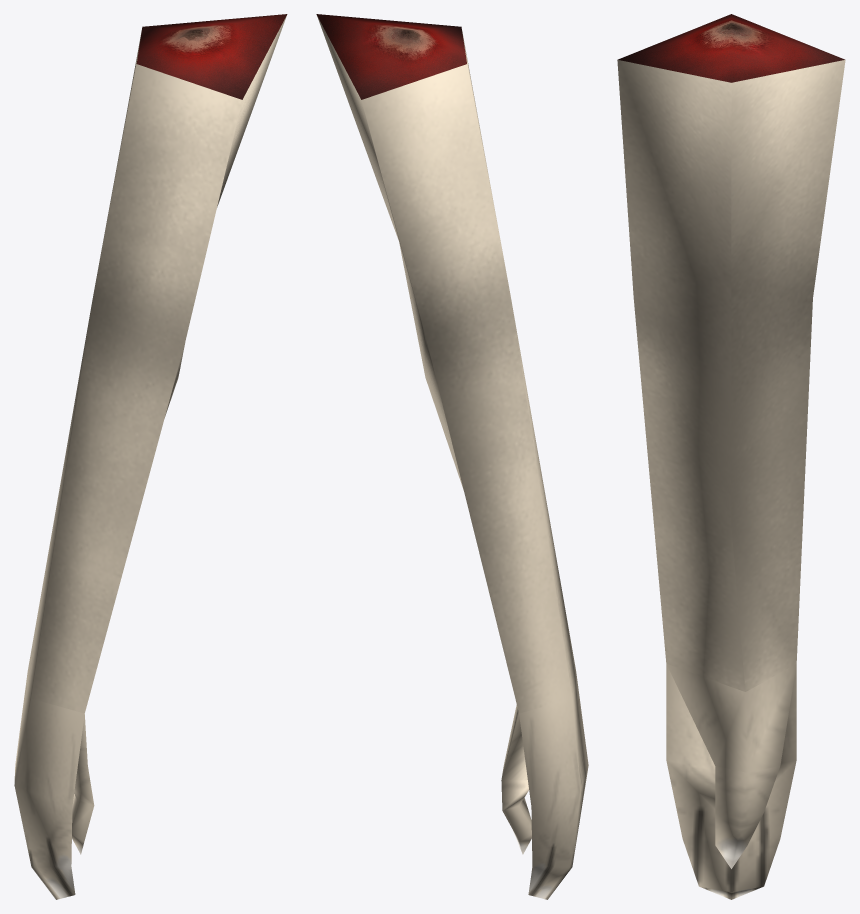
File: HumanoidLeftArm.fbx
3 renders of one model, left to right at view 1: azimuth 30°, elevation 25°; view 2: azimuth 150°, elevation 25°; view 3: azimuth 270°, elevation 25°, orthographic. The views are drawn at different scales.
Visible parts, largest first — view 1: LeftArm; view 2: LeftArm; view 3: LeftArm.
Boxes of the visible parts, x1,y1,x2,y2 form: LeftArm: [14, 14, 287, 899]; LeftArm: [316, 14, 588, 899]; LeftArm: [617, 14, 845, 899].
Bounding box in the file's own units: 21.68 × 64.46 × 14.
